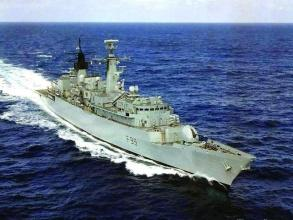warship: (36, 34, 250, 180)
